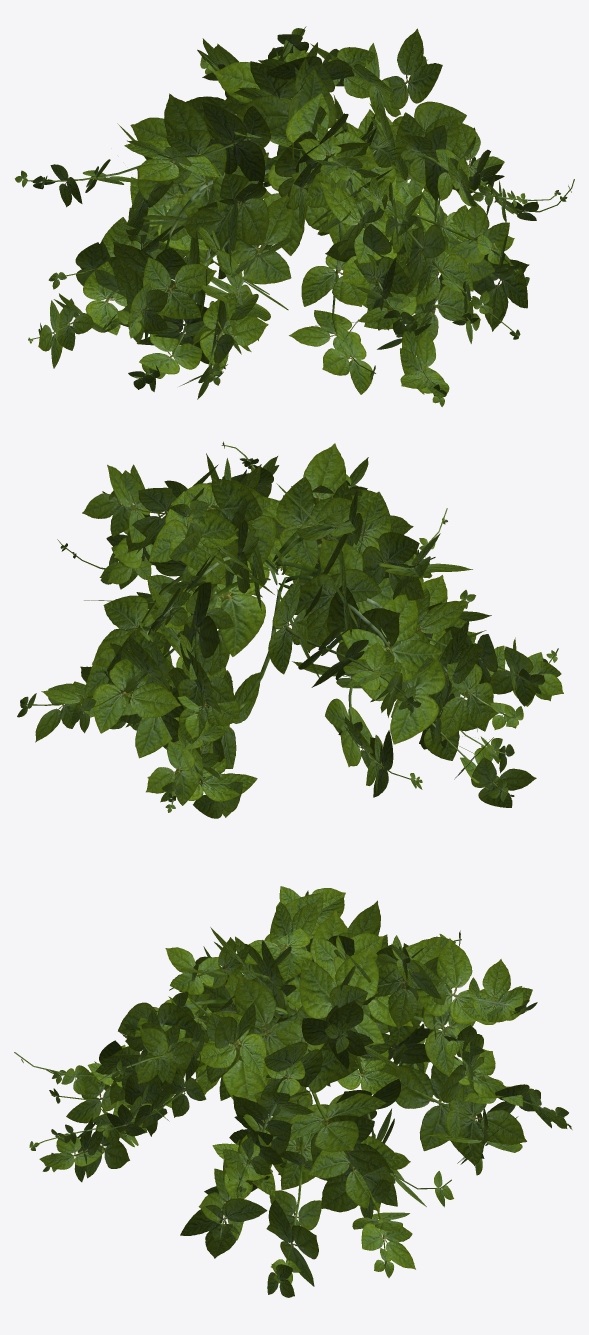
File: snail_vine_climber.glb
The picture shows the model from 3 angles, top to bottom: view 1: azimuth 30°, elevation 25°; view 2: azimuth 150°, elevation 25°; view 3: azimuth 270°, elevation 25°; orthographic projection. The views are drawn at different scales.
Parts seen in each view (by area): view 1: Vine_snailvineleaf_0; view 2: Vine_snailvineleaf_0; view 3: Vine_snailvineleaf_0.
Part boxes in pixels (bbox=[...]): Vine_snailvineleaf_0: bbox=[14, 26, 574, 406]; Vine_snailvineleaf_0: bbox=[17, 441, 563, 818]; Vine_snailvineleaf_0: bbox=[14, 886, 572, 1297].
Size of the model in its own units: 3.02 by 2 by 2.92.
Materials: 1 (1 with a texture image).
